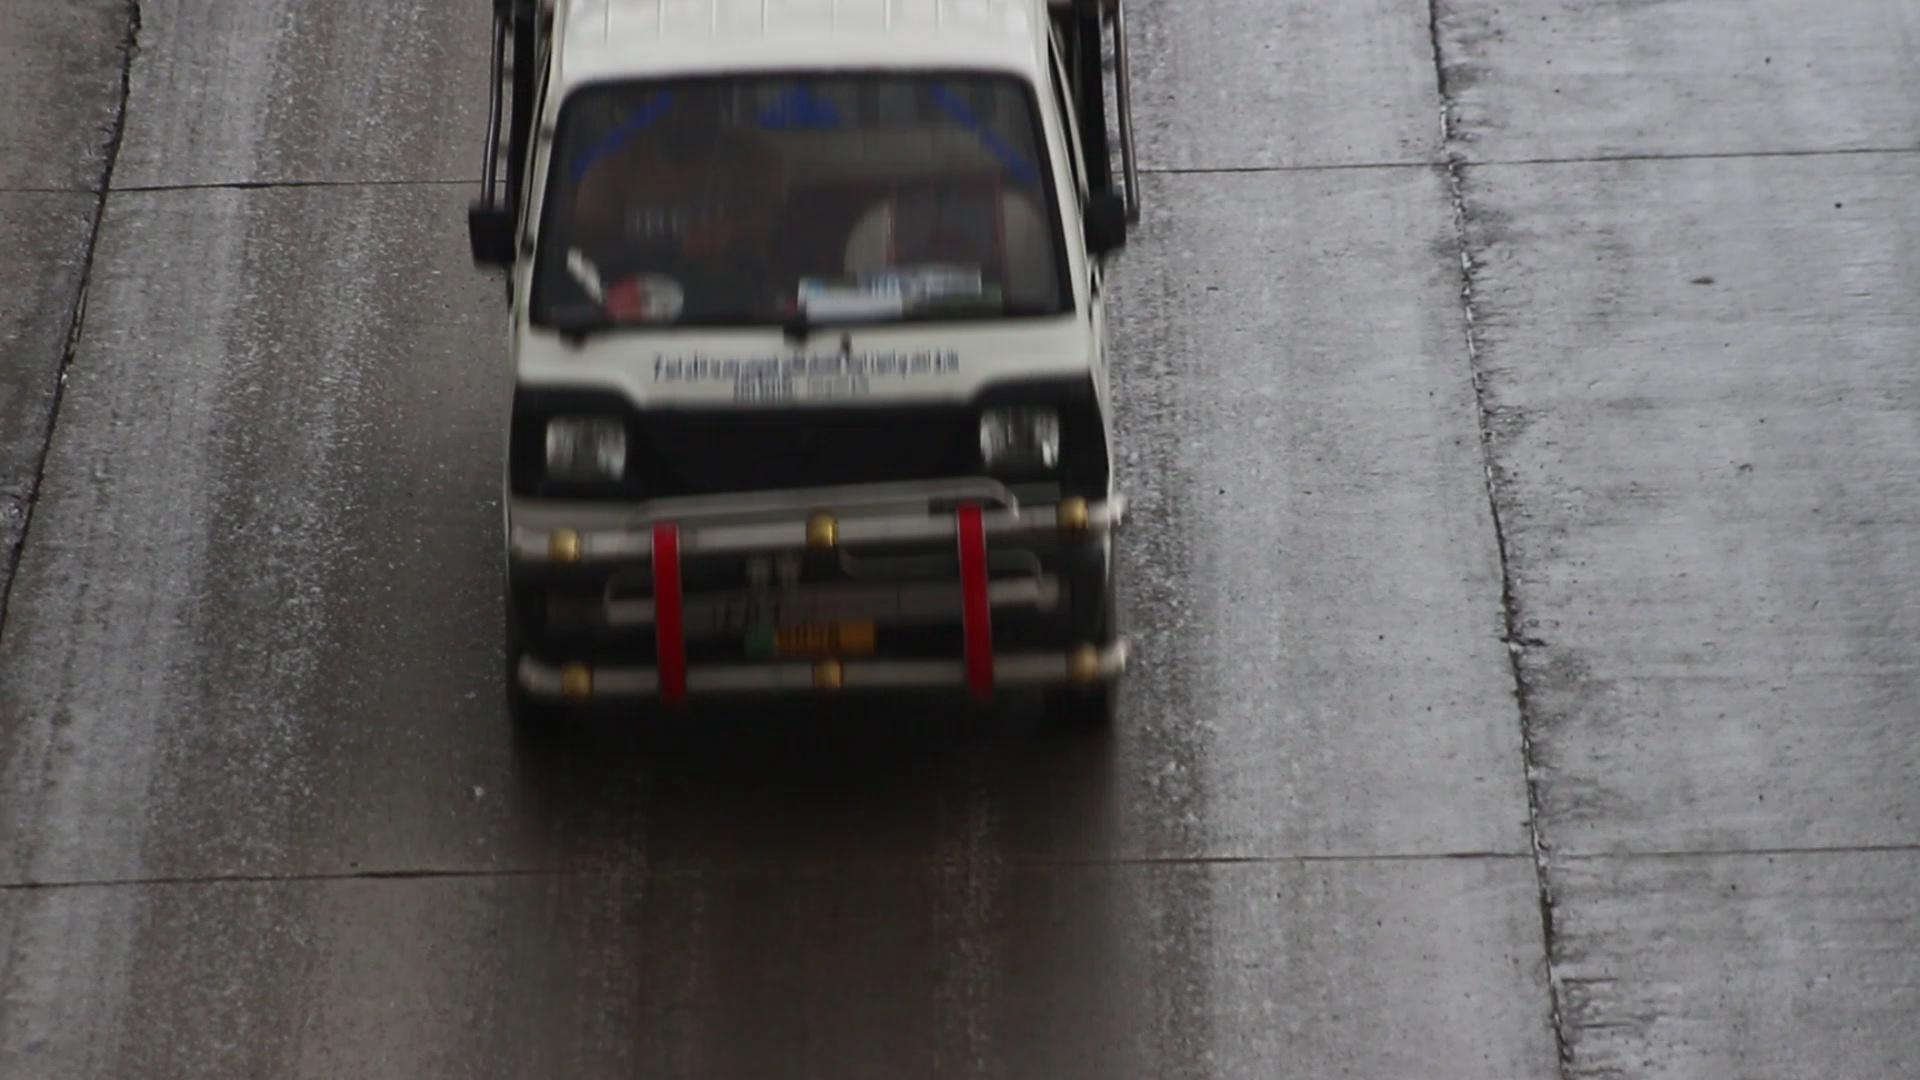windshield: (521, 63, 1080, 356)
